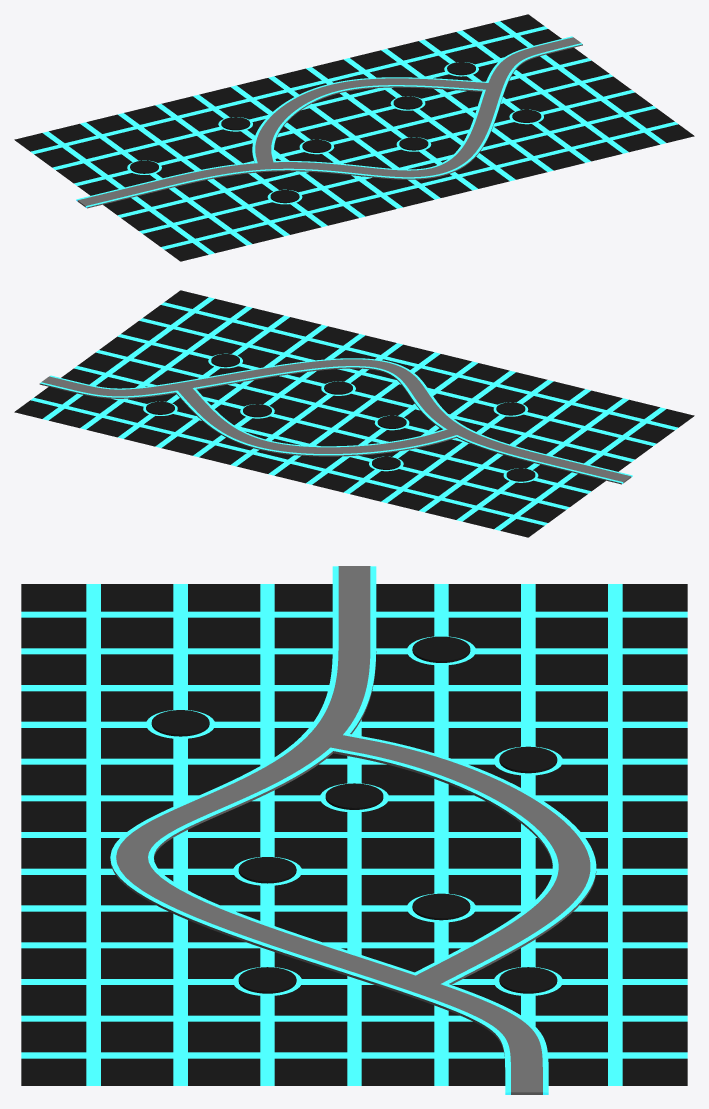
The model's file is level3.fbx.
The picture shows the model from 3 angles, top to bottom: view 1: azimuth 30°, elevation 25°; view 2: azimuth 150°, elevation 25°; view 3: azimuth 270°, elevation 25°; orthographic projection. The views are drawn at different scales.
Visible parts, largest first — view 1: Field, Plane.001, Plane.002; view 2: Field, Plane.001, Plane.002; view 3: Field, Plane.001, Plane.002, Cylinder.004, Cylinder.005, Cylinder.001, Cylinder.002, Cylinder.003, Cylinder, Cylinder.007, Cylinder.006.
Boxes of the visible parts, x1,y1,x2,y2 form: Field: (14,14,694,261); Plane.001: (76,36,582,208); Plane.002: (252,77,488,162); Field: (14,290,694,537); Plane.001: (39,358,632,484); Plane.002: (176,388,456,456); Field: (21,584,687,1085); Plane.001: (110,566,548,1094); Plane.002: (330,733,596,984); Cylinder.004: (412,893,470,920); Cylinder.005: (499,746,557,773); Cylinder.001: (151,710,209,736); Cylinder.002: (325,783,383,809); Cylinder.003: (412,636,470,662); Cylinder: (499,967,557,993); Cylinder.007: (238,967,296,993); Cylinder.006: (238,857,296,883).
Bounding box in the file's own units: 4297 × 20 × 2300.
